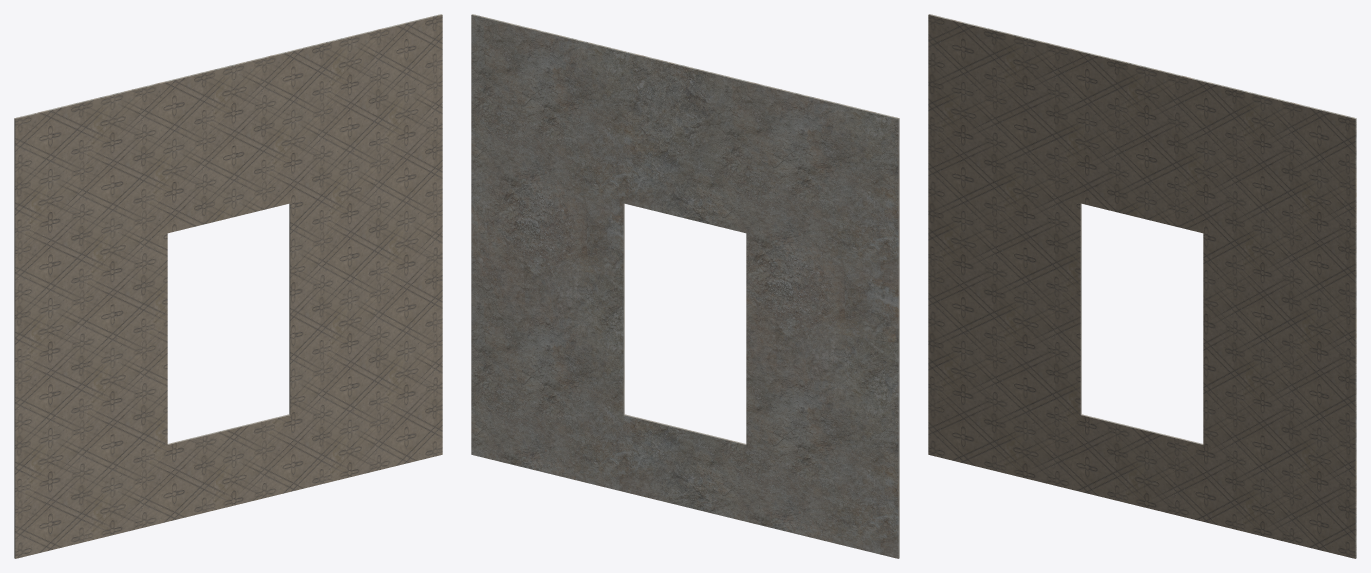
Rendered from WallpapperF.fbx.
The picture shows the model from 3 angles, left to right: view 1: azimuth 30°, elevation 25°; view 2: azimuth 150°, elevation 25°; view 3: azimuth 330°, elevation 25°; orthographic projection.
Parts seen in each view (by area): view 1: WallpapperF; view 2: WallpapperF; view 3: WallpapperF.
Part boxes in pixels (bbox=[...]): WallpapperF: bbox=[14, 14, 442, 558]; WallpapperF: bbox=[471, 14, 899, 558]; WallpapperF: bbox=[928, 14, 1356, 558].
Bounding box in the file's own units: 374 × 368 × 1.68.
